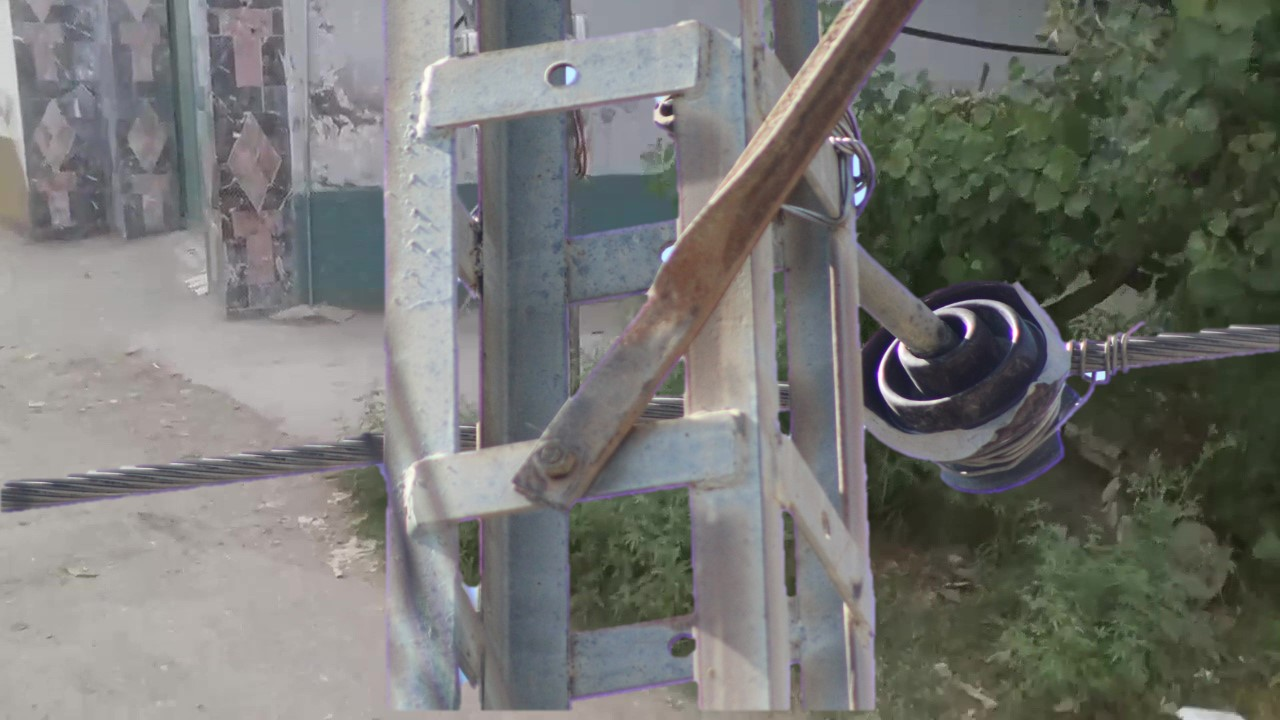defect_pin: (860, 269, 1090, 521)
